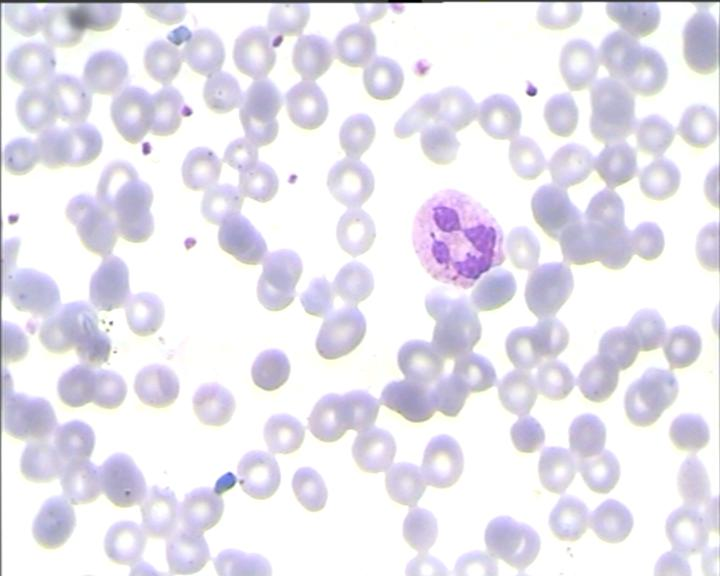neut: (407, 189, 505, 290)
